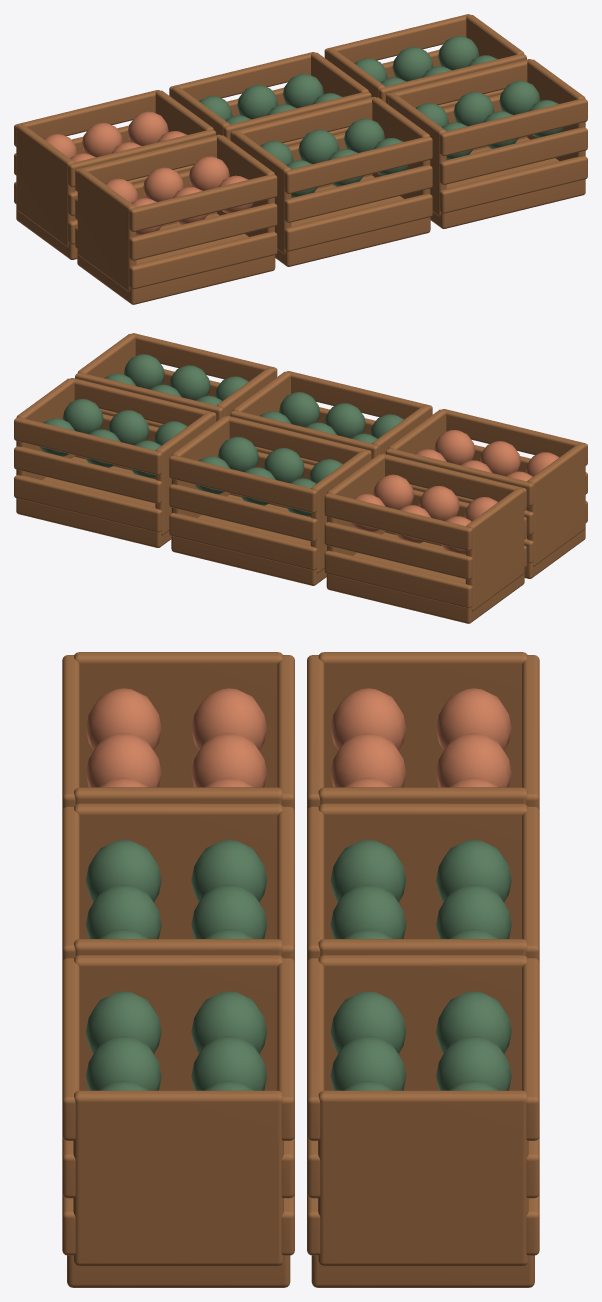
Rendered from pantry_crates.glb.
The picture shows the model from 3 angles, top to bottom: view 1: azimuth 30°, elevation 25°; view 2: azimuth 150°, elevation 25°; view 3: azimuth 270°, elevation 25°; orthographic projection. The views are drawn at different scales.
Parts seen in each view (by area): view 1: House07_pantry_crates; view 2: House07_pantry_crates; view 3: House07_pantry_crates.
Boxes of the visible parts, x1,y1,x2,y2 form: House07_pantry_crates: (14,14,587,304); House07_pantry_crates: (14,333,587,623); House07_pantry_crates: (62,652,539,1287).
Size of the model in its own units: 2.5 by 0.51 by 1.13.
